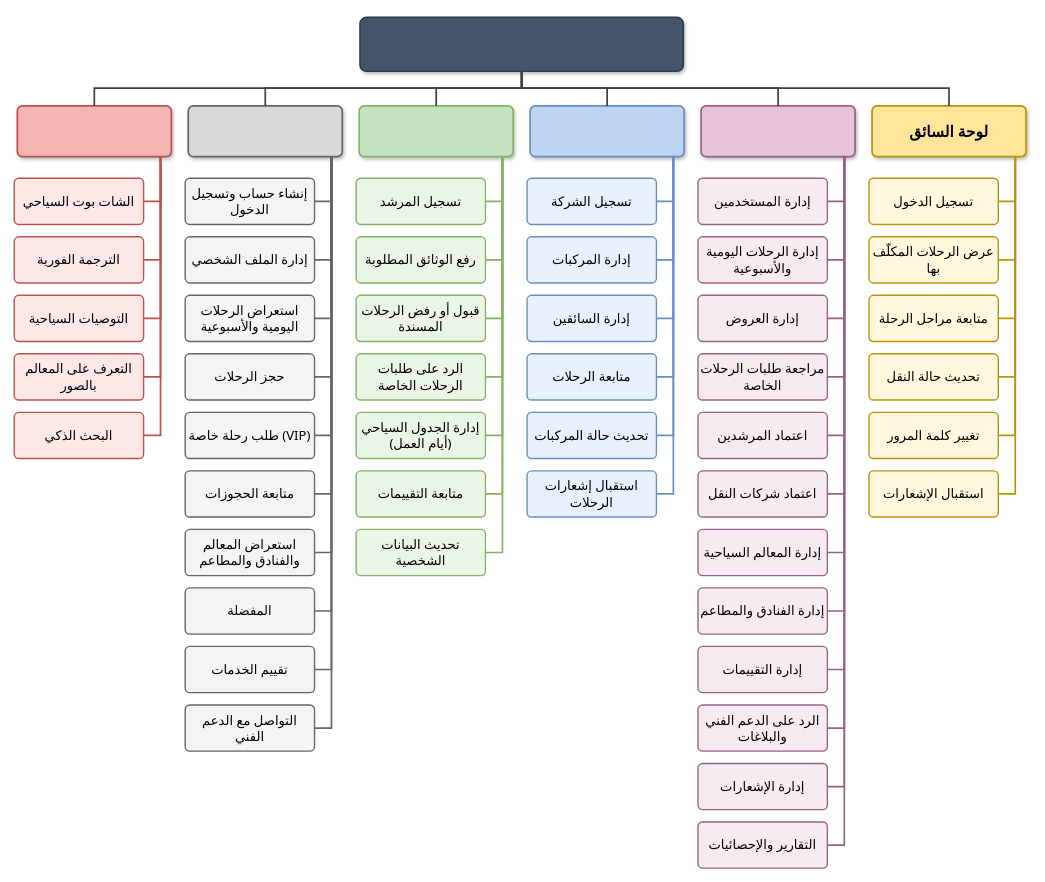
Image size: 1045x882. Some labels were removed from this diagram. Here are the shapes that lost their labels. From the top down, the centre of each, then its label:
At pixel 522 45: "منصة وتطبيق دلني".
At pixel 94 132: "الخدمات الذكية".
At pixel 265 132: "منصة السائح".
At pixel 436 132: "منصة المرشد السياحي".
At pixel 607 132: "منصة شركات النقل".
At pixel 778 132: "لوحة تحكم المدير".
